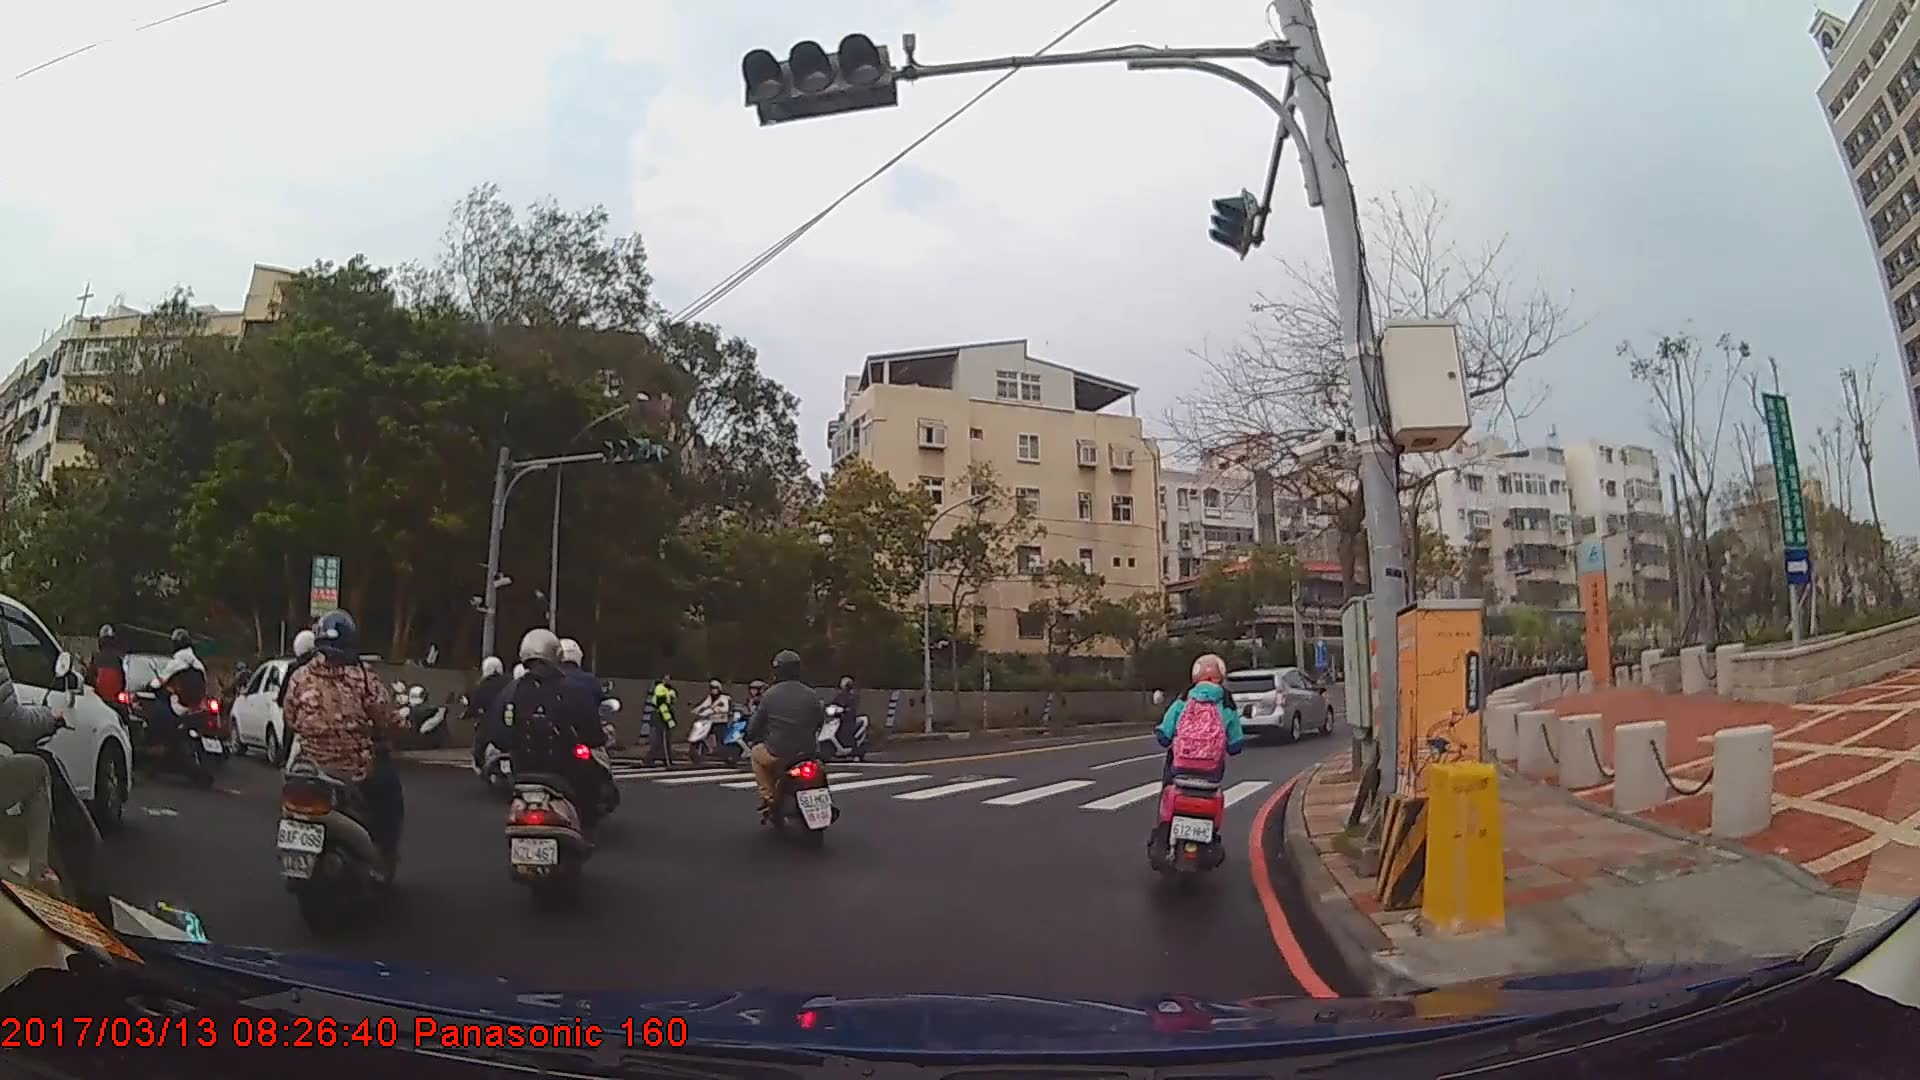pedestrian: (642, 671, 683, 774)
rider: (270, 613, 410, 926), (489, 628, 607, 905), (1151, 651, 1248, 885), (745, 648, 843, 851), (538, 638, 620, 829), (454, 657, 532, 797), (145, 628, 212, 786), (71, 626, 132, 767), (723, 680, 783, 762), (816, 678, 870, 764), (685, 678, 738, 760)
vehicle: (0, 597, 132, 832), (230, 660, 360, 766), (104, 651, 220, 764), (1211, 664, 1334, 744)
